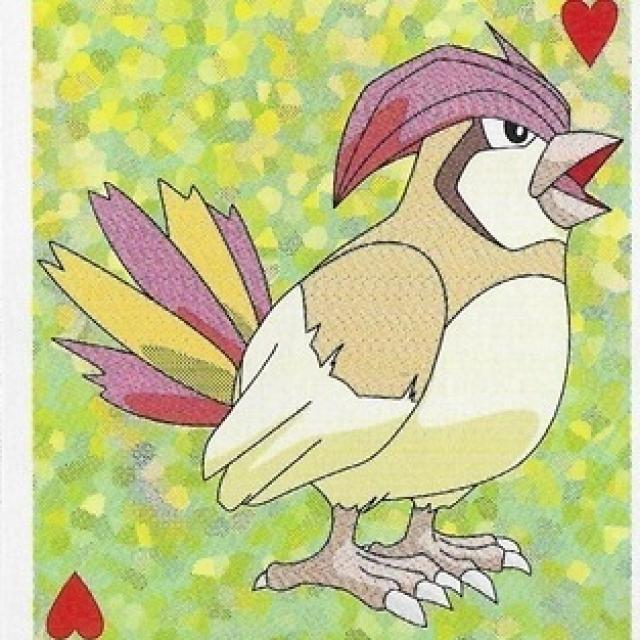Pidgeotto: (145, 34, 589, 594)
